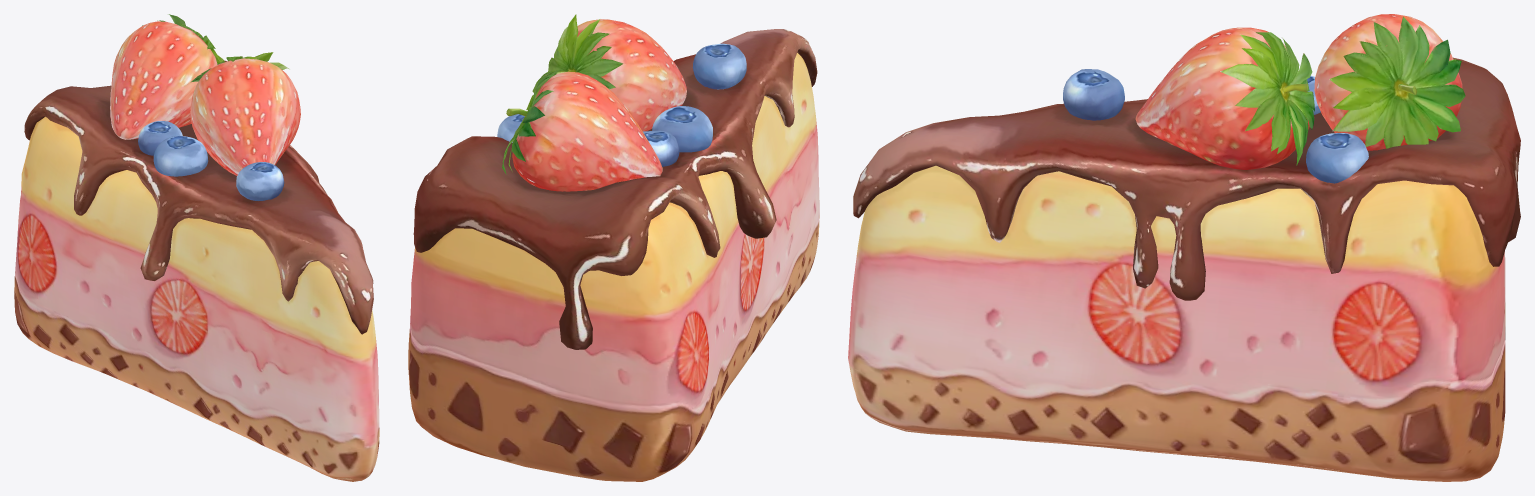
The model's file is handpainted_watercolor_cake_Compressed-Ultimate.glb.
The picture shows the model from 3 angles, left to right: view 1: azimuth 30°, elevation 25°; view 2: azimuth 150°, elevation 25°; view 3: azimuth 270°, elevation 25°; orthographic projection. The views are drawn at different scales.
Parts seen in each view (by area): view 1: frosting001_cake_0; view 2: frosting001_cake_0; view 3: frosting001_cake_0.
Boxes of the visible parts, <box> form: frosting001_cake_0: <box>14,14,379,481</box>; frosting001_cake_0: <box>408,14,819,481</box>; frosting001_cake_0: <box>848,14,1520,481</box>.
Bounding box in the file's own units: 2.74 × 3.45 × 5.01.
1 material, 1 textured.
